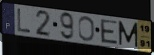2: (35, 9, 52, 38)
9: (59, 11, 75, 42)
E: (99, 19, 119, 46)
L: (16, 7, 32, 34)
M: (118, 20, 139, 49)
O: (77, 15, 96, 43)
